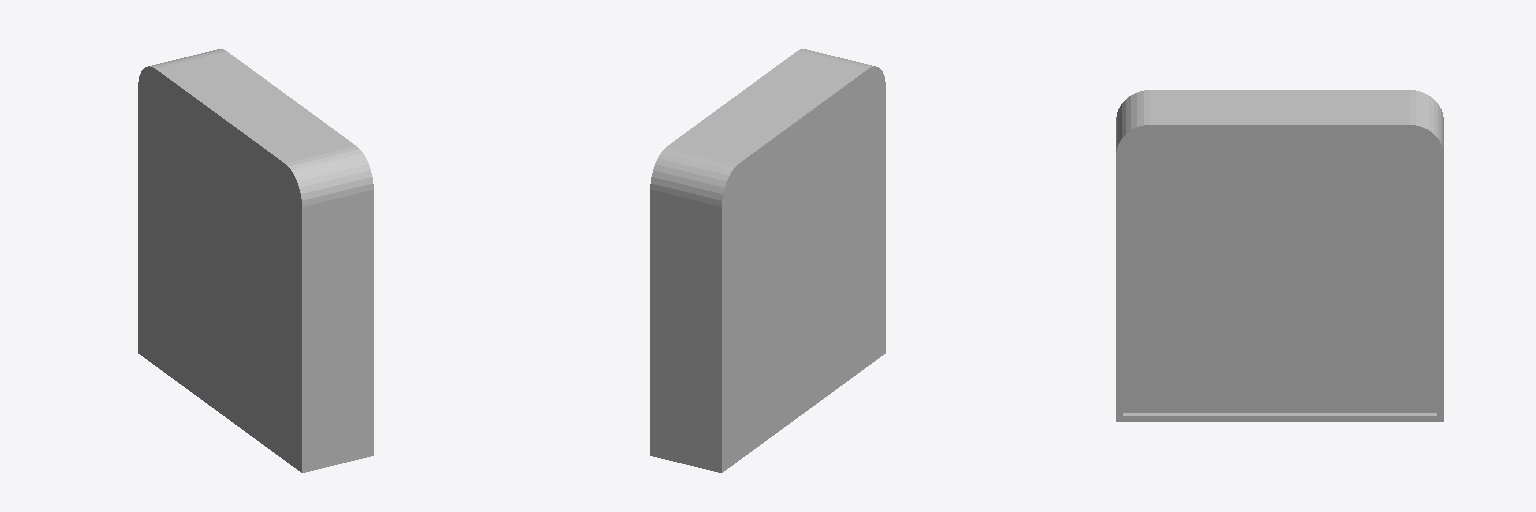
The model's file is github.obj.
3 views of the same model, side by side, from view 1: azimuth 30°, elevation 25°; view 2: azimuth 150°, elevation 25°; view 3: azimuth 270°, elevation 25° (orthographic).
Parts seen in each view (by area): view 1: model_Cube.001; view 2: model_Cube.001; view 3: github, model_Cube.001.
Boxes of the visible parts, x1=… form: model_Cube.001: x1=138, y1=49, x2=373, y2=472; model_Cube.001: x1=650, y1=49, x2=885, y2=472; github: x1=1134, y1=141, x2=1425, y2=404; model_Cube.001: x1=1116, y1=90, x2=1443, y2=421.
Size of the model in its own units: 0.1756 by 0.6961 by 0.6961.